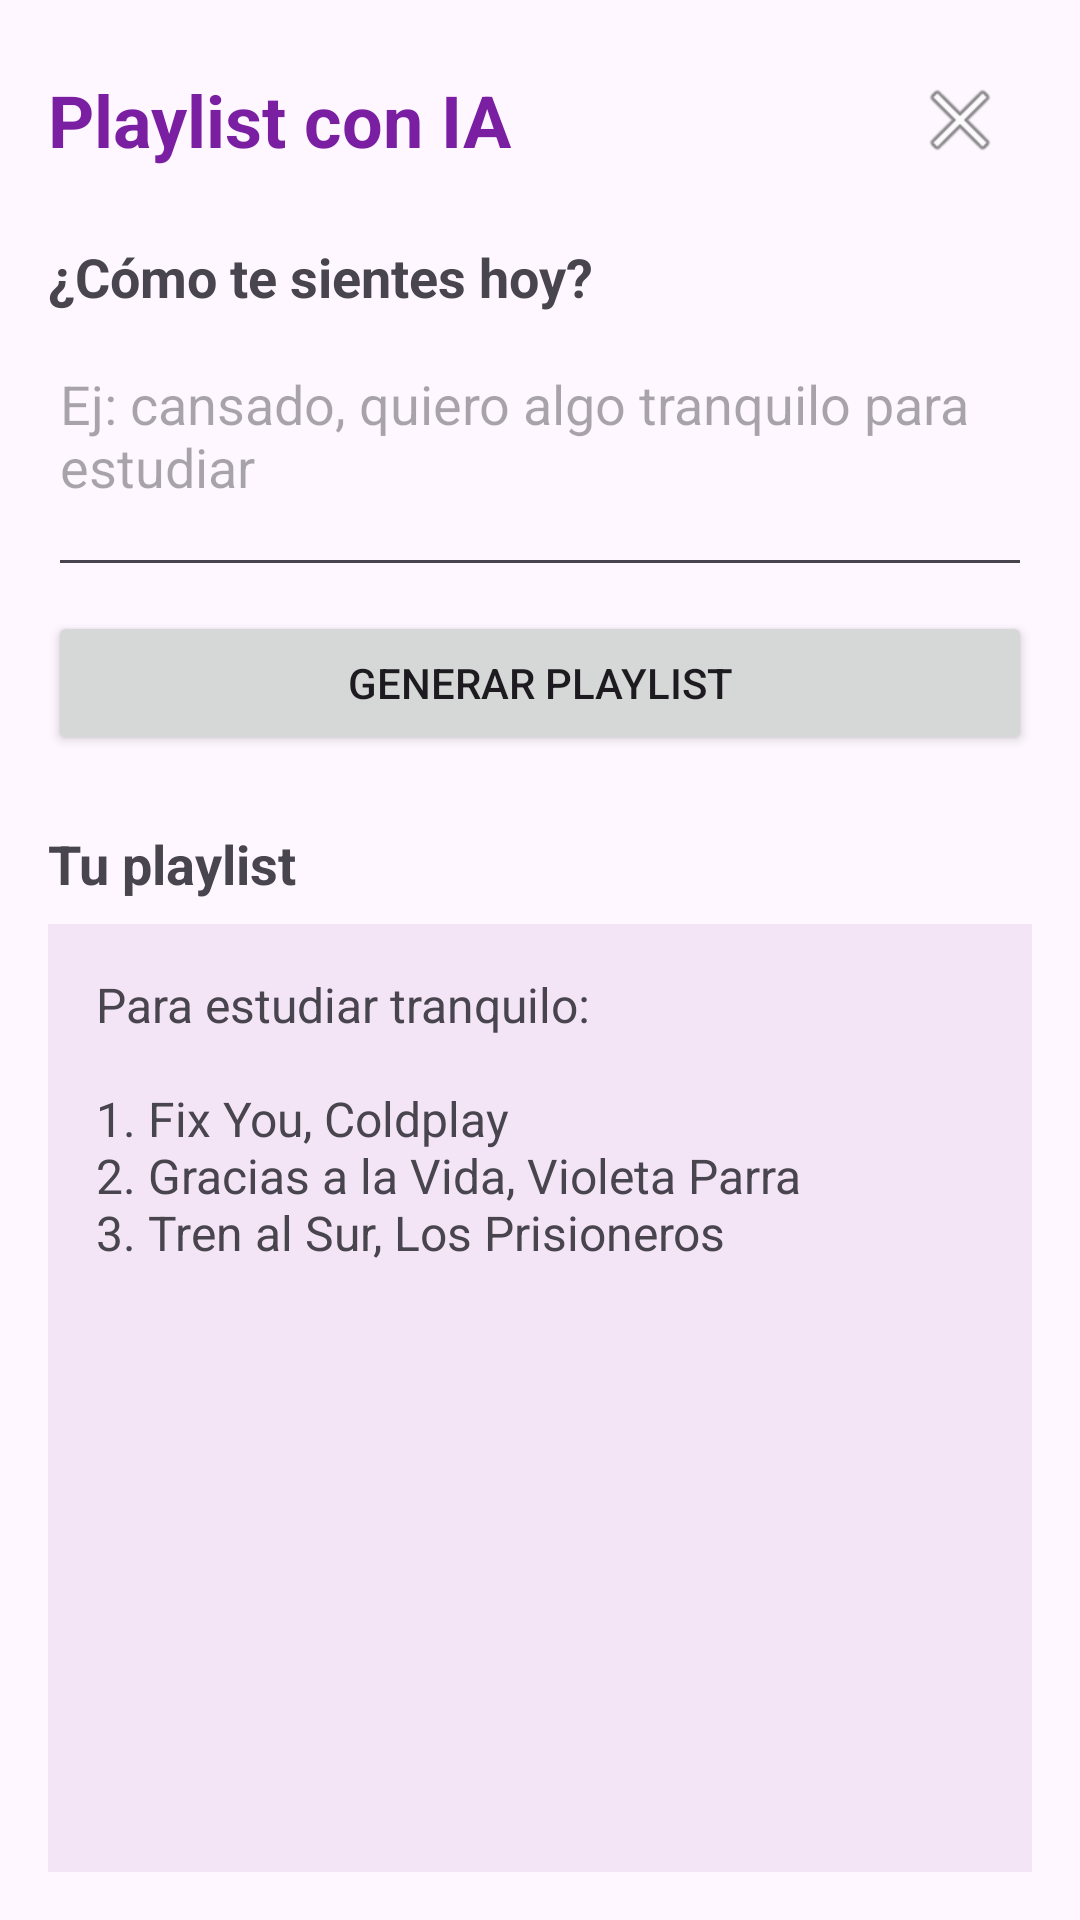

Where to tap for icons on this 1080 x 1920 app screen, as point (x, y):
Volver a la lista: point (960, 120)
